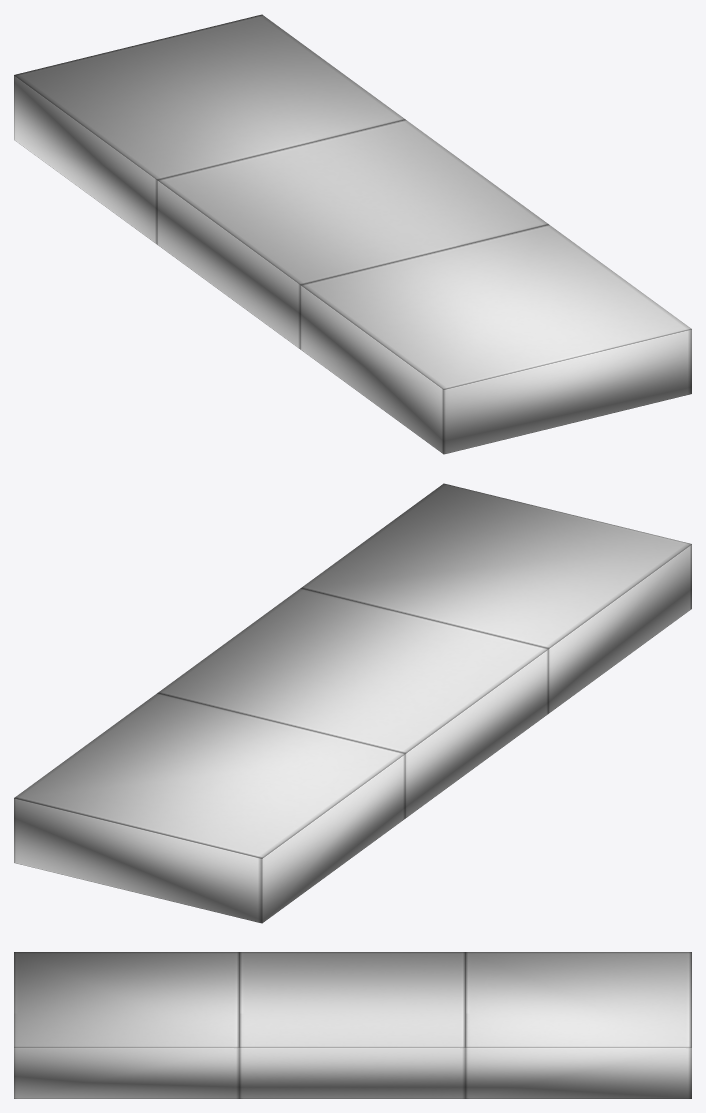
File: Floor-03.fbx
3 renders of one model, top to bottom at view 1: azimuth 30°, elevation 25°; view 2: azimuth 150°, elevation 25°; view 3: azimuth 270°, elevation 25°, orthographic. The views are drawn at different scales.
Parts seen in each view (by area): view 1: Floor-03; view 2: Floor-03; view 3: Floor-03.
Part boxes in pixels (x1,y1,x2,y2): Floor-03: (14,14,691,454); Floor-03: (14,483,691,923); Floor-03: (14,952,691,1098).
Bounding box in the file's own units: 1 × 0.25 × 3.
